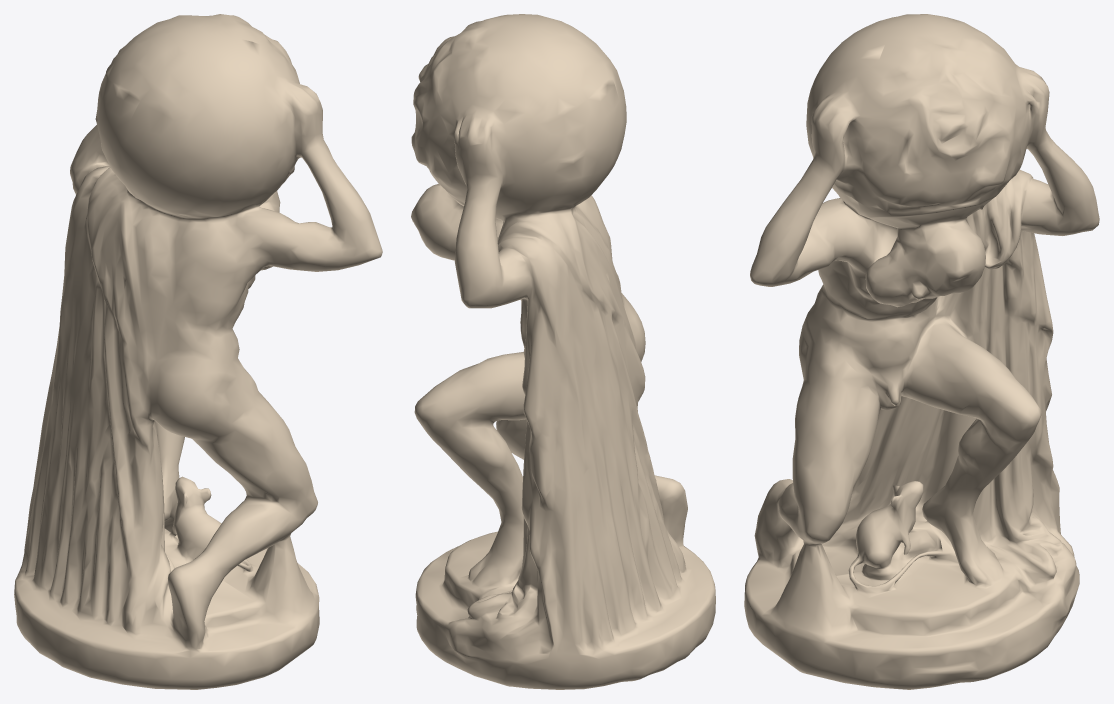
File: earth_bearer_lowpoly.glb
3 views of the same model, side by side, from view 1: azimuth 30°, elevation 25°; view 2: azimuth 150°, elevation 25°; view 3: azimuth 270°, elevation 25° (orthographic). The views are drawn at different scales.
Visible parts, largest first — view 1: Sculpture; view 2: Sculpture; view 3: Sculpture.
Part boxes in pixels (x1,y1,x2,y2): Sculpture: (14,14,382,689); Sculpture: (411,14,715,689); Sculpture: (744,14,1099,689).
Bounding box in the file's own units: 47.79 × 99.84 × 51.55.
